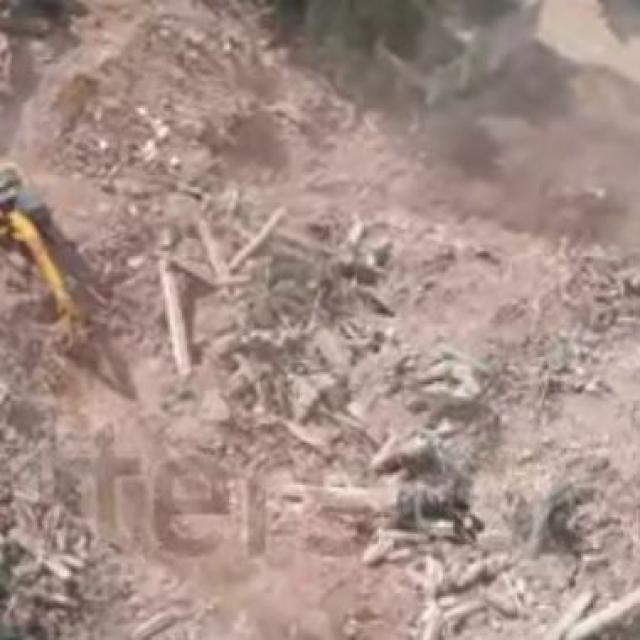collapsed_building: (54, 93, 638, 603)
